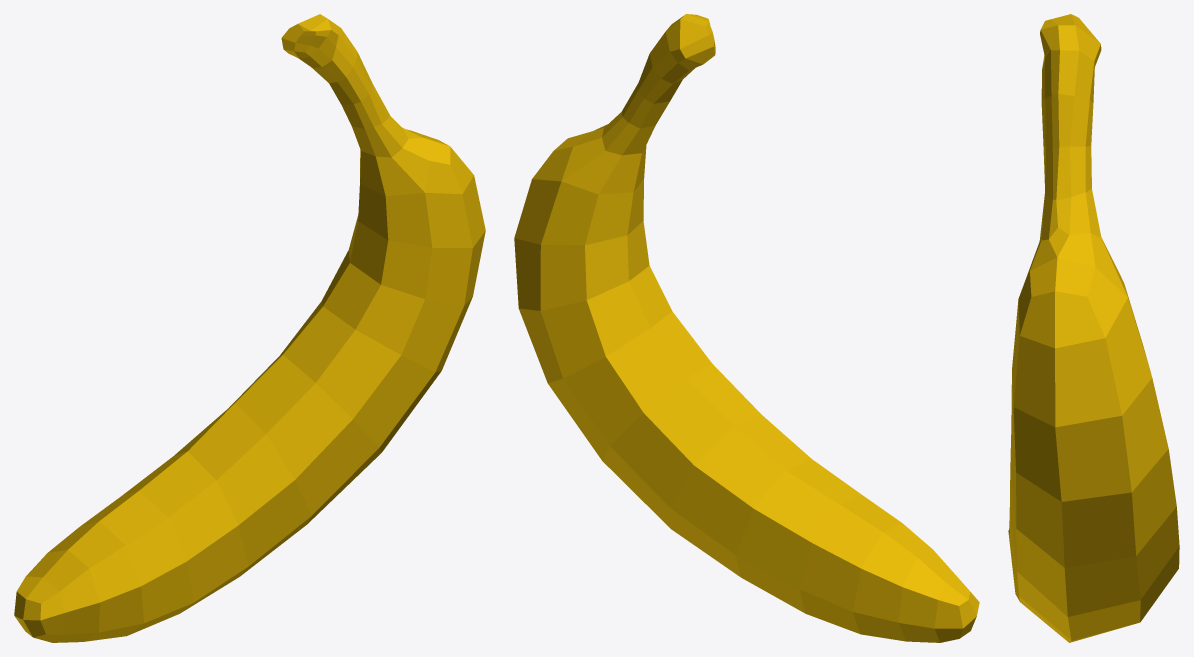
Rendered from banana.fbx.
3 views of the same model, side by side, from view 1: azimuth 30°, elevation 25°; view 2: azimuth 150°, elevation 25°; view 3: azimuth 270°, elevation 25° (orthographic). The views are drawn at different scales.
Visible parts, largest first — view 1: Banana; view 2: Banana; view 3: Banana.
Part boxes in pixels (left/top/right/bottom): Banana: left=14, top=14, right=485, bottom=642; Banana: left=514, top=14, right=979, bottom=642; Banana: left=1008, top=14, right=1179, bottom=642.
Bounding box in the file's own units: 118 × 140 × 30.95.
